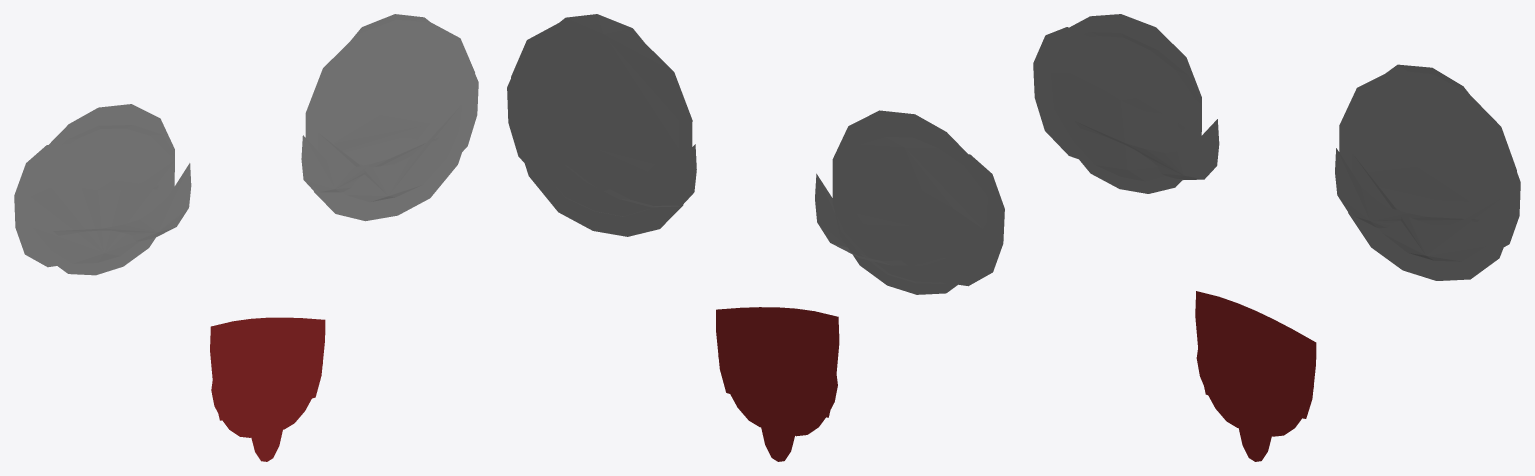
The model's file is Ebimaru_facial.FBX.
The picture shows the model from 3 angles, left to right: view 1: azimuth 30°, elevation 25°; view 2: azimuth 150°, elevation 25°; view 3: azimuth 330°, elevation 25°; orthographic projection. The views are drawn at different scales.
Parts seen in each view (by area): view 1: Ebimaru_Eye_Attack, Ebimaru_Eye_Down, Ebimaru_Eye_Left, Ebimaru_Mouth_Attack, Ebimaru_Eye_Right, Ebimaru_Mouth_Right, Ebimaru_Mouth_Down, Ebimaru_Eye_Up, Ebimaru_Mouth_Left; view 2: Ebimaru_Eye_Attack, Ebimaru_Eye_Up, Ebimaru_Mouth_Attack, Ebimaru_Eye_Right, Ebimaru_Eye_Left, Ebimaru_Mouth_Left, Ebimaru_Mouth_Down, Ebimaru_Mouth_Right, Ebimaru_Mouth_Up, Ebimaru_Eye_Down; view 3: Ebimaru_Eye_Attack, Ebimaru_Eye_Down, Ebimaru_Eye_Left, Ebimaru_Mouth_Attack, Ebimaru_Eye_Right, Ebimaru_Mouth_Right, Ebimaru_Mouth_Down, Ebimaru_Eye_Up, Ebimaru_Mouth_Left, Ebimaru_Mouth_Up.
Part boxes in pixels (<box>): Ebimaru_Eye_Attack: <box>35,19,474,275</box>; Ebimaru_Eye_Down: <box>30,104,462,263</box>; Ebimaru_Eye_Left: <box>53,47,478,241</box>; Ebimaru_Mouth_Attack: <box>210,317,325,420</box>; Ebimaru_Eye_Right: <box>14,135,439,267</box>; Ebimaru_Mouth_Right: <box>211,362,268,437</box>; Ebimaru_Mouth_Down: <box>251,349,285,461</box>; Ebimaru_Eye_Up: <box>62,14,430,162</box>; Ebimaru_Mouth_Left: <box>275,343,322,429</box>; Ebimaru_Eye_Attack: <box>511,23,985,294</box>; Ebimaru_Eye_Up: <box>524,14,987,228</box>; Ebimaru_Mouth_Attack: <box>716,307,839,417</box>; Ebimaru_Eye_Right: <box>565,144,1004,286</box>; Ebimaru_Eye_Left: <box>507,79,945,265</box>; Ebimaru_Mouth_Left: <box>718,335,779,427</box>; Ebimaru_Mouth_Down: <box>758,340,797,461</box>; Ebimaru_Mouth_Right: <box>776,352,837,436</box>; Ebimaru_Mouth_Up: <box>736,330,821,378</box>; Ebimaru_Eye_Down: <box>556,172,982,283</box>; Ebimaru_Eye_Attack: <box>1055,14,1516,280</box>; Ebimaru_Eye_Down: <box>1050,72,1503,261</box>; Ebimaru_Eye_Left: <box>1074,119,1520,246</box>; Ebimaru_Mouth_Attack: <box>1195,291,1316,418</box>; Ebimaru_Eye_Right: <box>1033,27,1479,228</box>; Ebimaru_Mouth_Right: <box>1196,337,1257,427</box>; Ebimaru_Mouth_Down: <box>1236,342,1274,461</box>; Ebimaru_Eye_Up: <box>1083,32,1469,109</box>; Ebimaru_Mouth_Left: <box>1256,354,1313,436</box>; Ebimaru_Mouth_Up: <box>1214,329,1294,388</box>.
Bounding box in the file's own units: 21.66 × 17.68 × 1.7.
